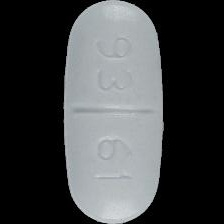0093-1061: (0, 0, 224, 224)
